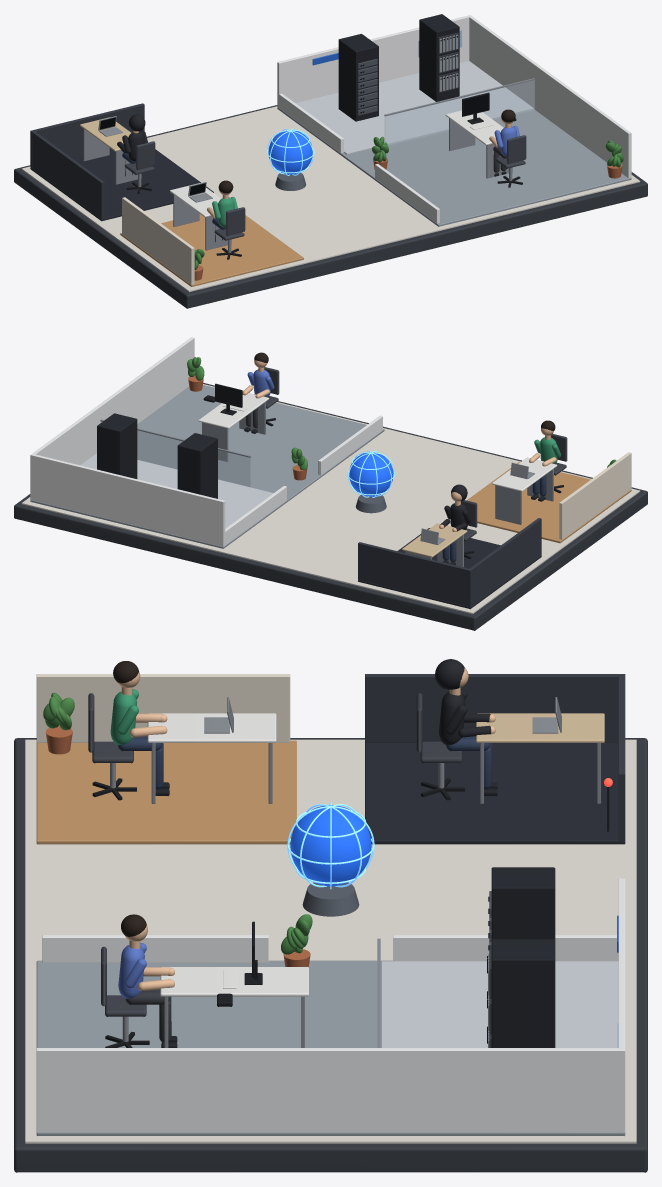
Rendered from cyber-office.glb.
The picture shows the model from 3 angles, top to bottom: view 1: azimuth 30°, elevation 25°; view 2: azimuth 150°, elevation 25°; view 3: azimuth 270°, elevation 25°; orthographic projection. The views are drawn at different scales.
Visible parts, largest first — view 1: Static, Glass, Part_DB, Part_Web, Net_Globe; view 2: Static, Part_DB, Part_Web, Glass, Net_Globe; view 3: Static, Part_DB, Net_Globe, Part_Web.
Boxes of the visible parts, left/top/right/bottom form: Static: left=14, top=15, right=647, bottom=308; Glass: left=385, top=80, right=534, bottom=145; Part_DB: left=419, top=14, right=459, bottom=101; Part_Web: left=338, top=34, right=378, bottom=121; Net_Globe: left=267, top=128, right=314, bottom=175; Static: left=14, top=337, right=647, bottom=630; Part_DB: left=97, top=413, right=137, bottom=478; Part_Web: left=177, top=433, right=217, bottom=498; Glass: left=101, top=421, right=250, bottom=486; Net_Globe: left=347, top=450, right=394, bottom=497; Static: left=14, top=659, right=647, bottom=1172; Part_DB: left=488, top=939, right=555, bottom=1047; Net_Globe: left=287, top=802, right=374, bottom=888; Part_Web: left=489, top=867, right=555, bottom=950.
Bounding box in the file's own units: 1.72 × 0.3196 × 1.12.
